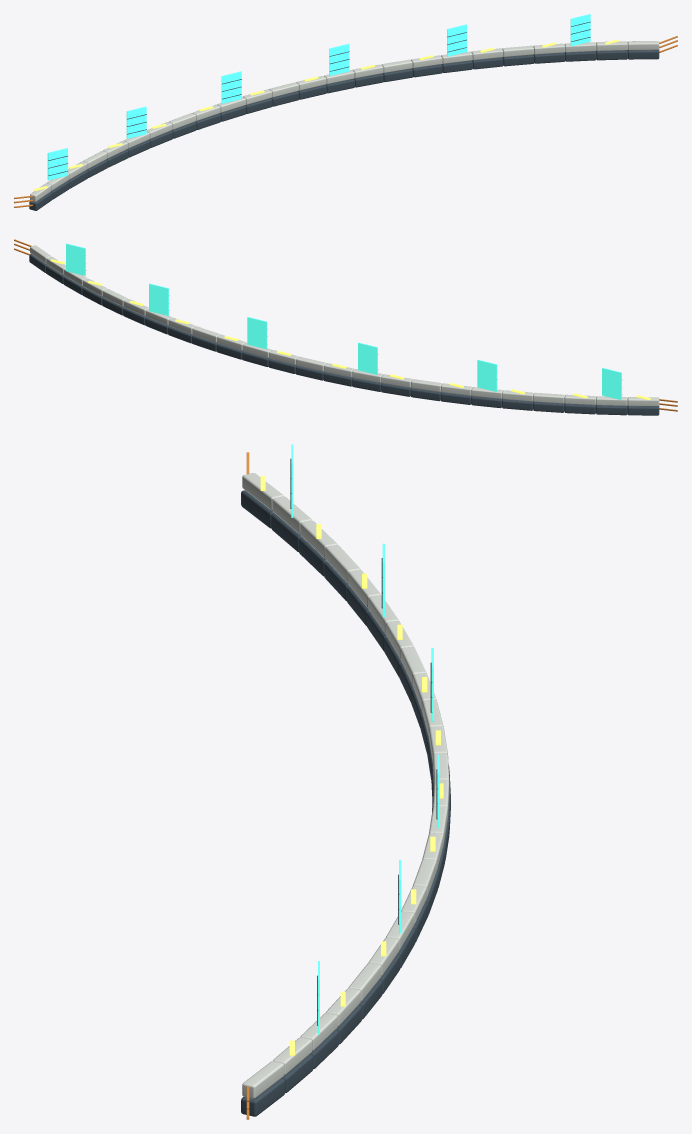
File: ring_arc.glb
3 views of the same model, one above another, from view 1: azimuth 30°, elevation 25°; view 2: azimuth 150°, elevation 25°; view 3: azimuth 270°, elevation 25° (orthographic). The views are drawn at different scales.
Parts seen in each view (by area): view 1: Solar panel fin.001, Solar panel fin.002, Solar panel fin, Solar panel fin.005, Solar panel fin.003, Solar panel fin.004, Ring longitudinal deck.046, Ring longitudinal deck.042, Ring longitudinal deck.040, Ring longitudinal deck.044, Ring longitudinal deck.047; view 2: Solar panel fin.001, Solar panel fin.003, Solar panel fin.002, Solar panel fin.004, Solar panel fin.005, Solar panel fin, Ring longitudinal deck, Ring longitudinal deck.002, Ring longitudinal deck.004, Ring longitudinal deck.006, Ring longitudinal deck.008, Ring longitudinal deck.007 (+13 smaller); view 3: no part large enough to name.
Part boxes in pixels (x1=…): Solar panel fin.001: x1=126, y1=106, x2=146, y2=138; Solar panel fin.002: x1=221, y1=71, x2=241, y2=103; Solar panel fin: x1=47, y1=148, x2=67, y2=180; Solar panel fin.005: x1=570, y1=14, x2=590, y2=46; Solar panel fin.003: x1=329, y1=43, x2=349, y2=75; Solar panel fin.004: x1=447, y1=24, x2=466, y2=56; Ring longitudinal deck.046: x1=627, y1=49, x2=659, y2=59; Ring longitudinal deck.042: x1=565, y1=51, x2=596, y2=61; Ring longitudinal deck.040: x1=533, y1=52, x2=565, y2=63; Ring longitudinal deck.044: x1=596, y1=50, x2=627, y2=60; Ring longitudinal deck.047: x1=627, y1=41, x2=659, y2=50; Solar panel fin.001: x1=477, y1=359, x2=497, y2=391; Solar panel fin.003: x1=247, y1=317, x2=267, y2=349; Solar panel fin.002: x1=358, y1=342, x2=377, y2=374; Solar panel fin.004: x1=149, y1=283, x2=168, y2=315; Solar panel fin.005: x1=66, y1=243, x2=85, y2=275; Solar panel fin: x1=602, y1=368, x2=621, y2=400; Ring longitudinal deck: x1=627, y1=406, x2=659, y2=415; Ring longitudinal deck.002: x1=596, y1=405, x2=627, y2=415; Ring longitudinal deck.004: x1=564, y1=404, x2=596, y2=414; Ring longitudinal deck.006: x1=533, y1=402, x2=564, y2=412; Ring longitudinal deck.008: x1=502, y1=399, x2=533, y2=410; Ring longitudinal deck.007: x1=533, y1=392, x2=564, y2=403.
Bounding box in the file's own units: 101 × 6.3 × 13.84.
